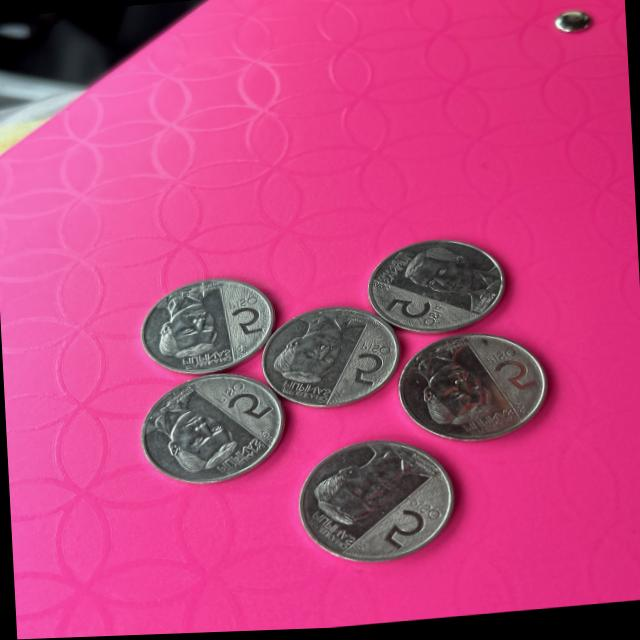5_New_Front: (374, 497, 444, 558), (484, 347, 539, 399), (218, 377, 272, 429), (382, 295, 444, 334), (342, 344, 394, 390), (223, 294, 263, 341)
